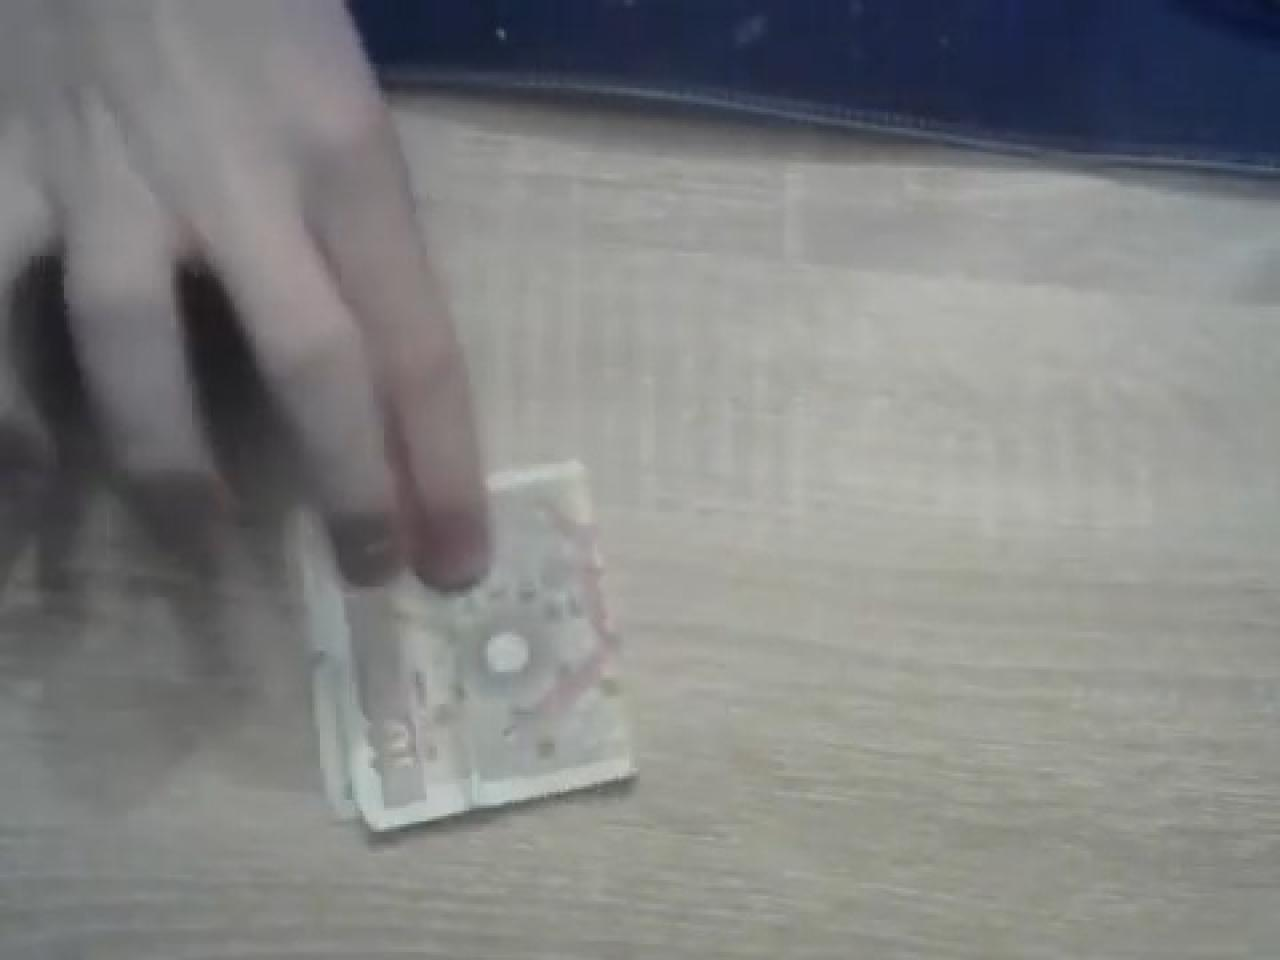10leva: (283, 456, 640, 835)
